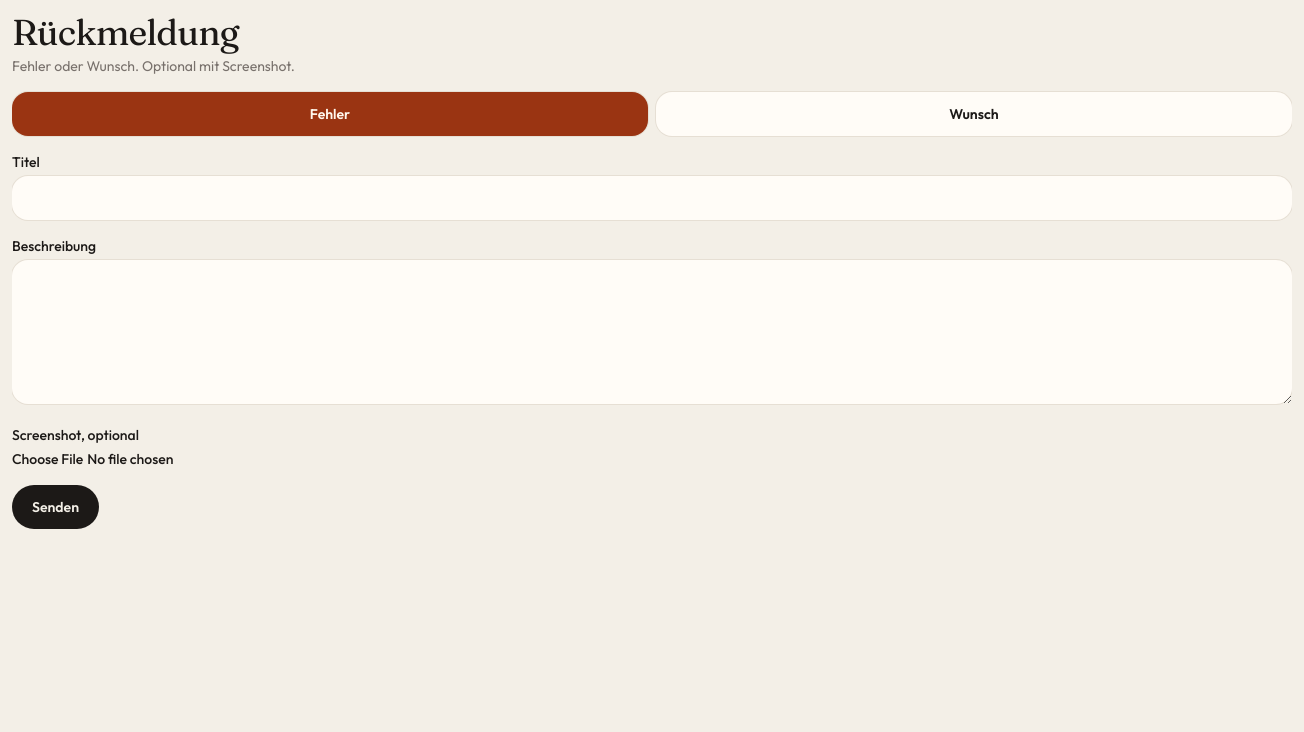
Scenario: FeedbackForm › sends a wish without a screenshot
Click the radio button "Wunsch".
click(974, 114)  # box [656,92,1292,136]
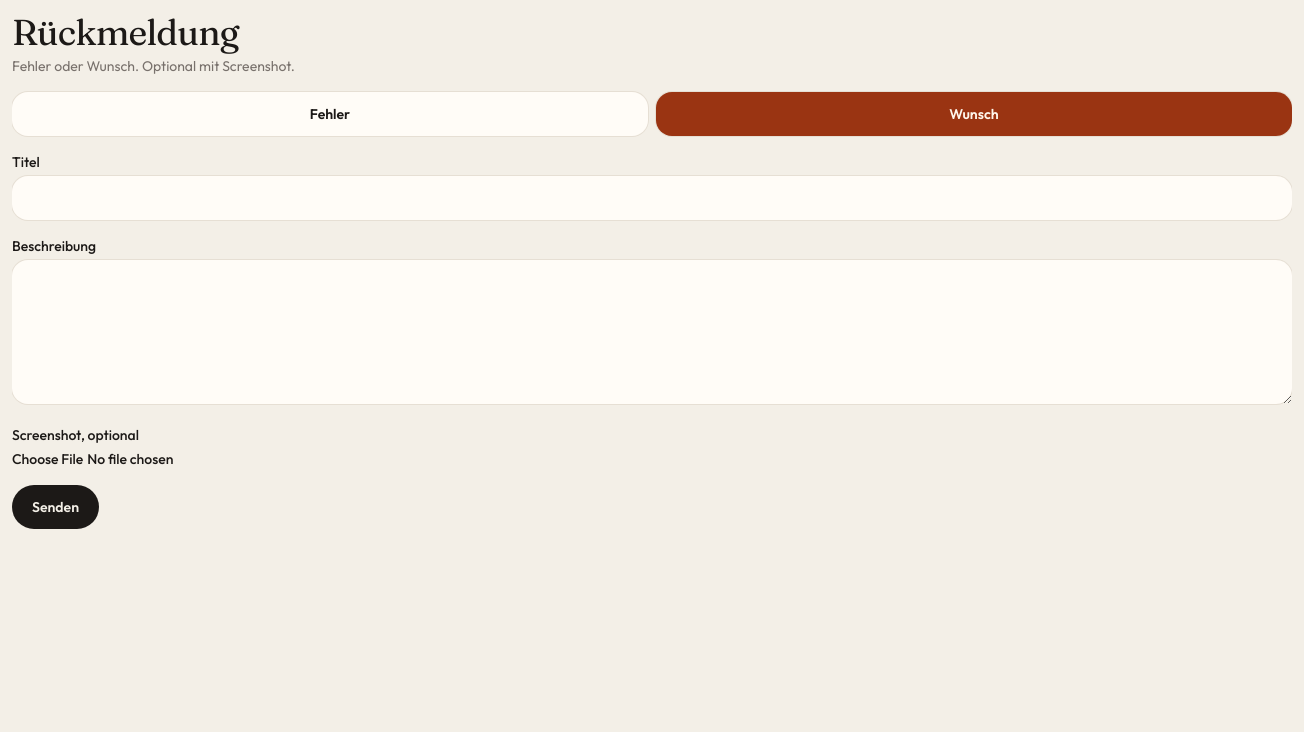
Type "Karte" into the field labelled "Titel".
click(652, 198); type("Karte")  # box [12,176,1292,220]
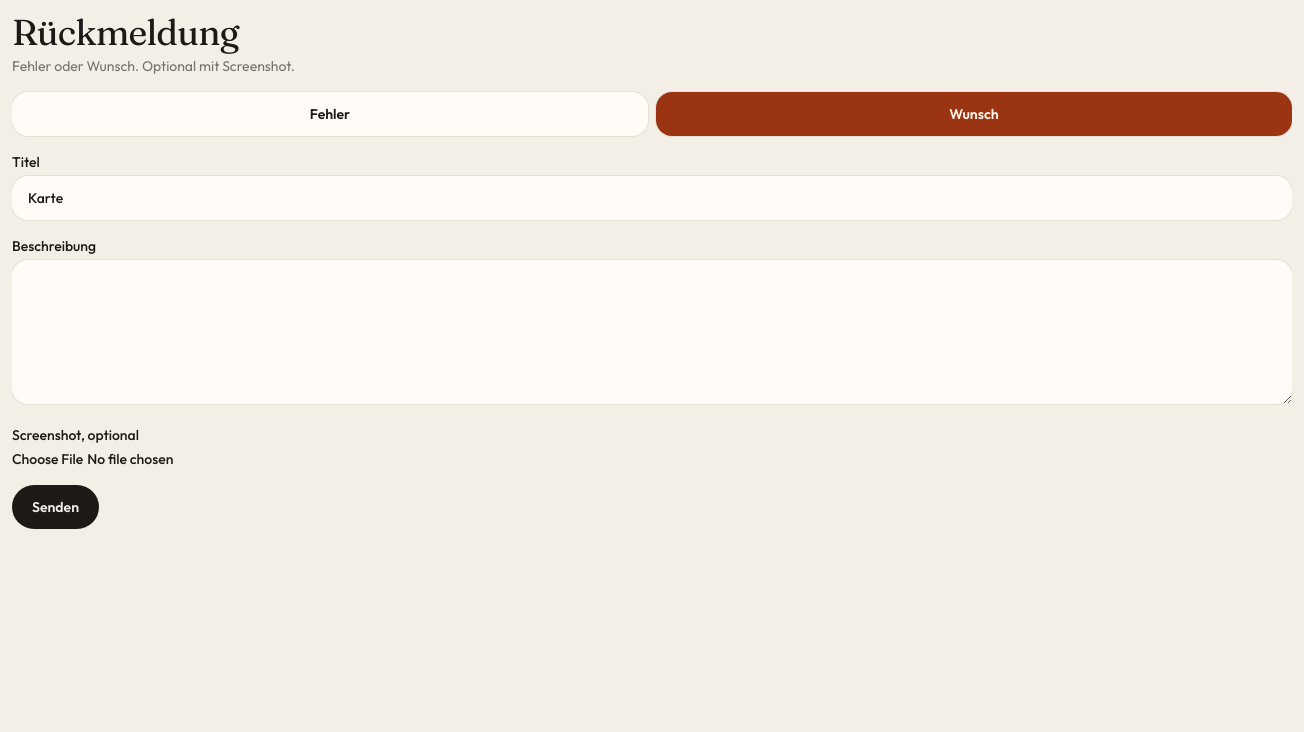
Type "Bitte eine Karte" into the text box labelled "Beschreibung".
click(652, 332); type("Bitte eine Karte")  # box [12,260,1292,404]
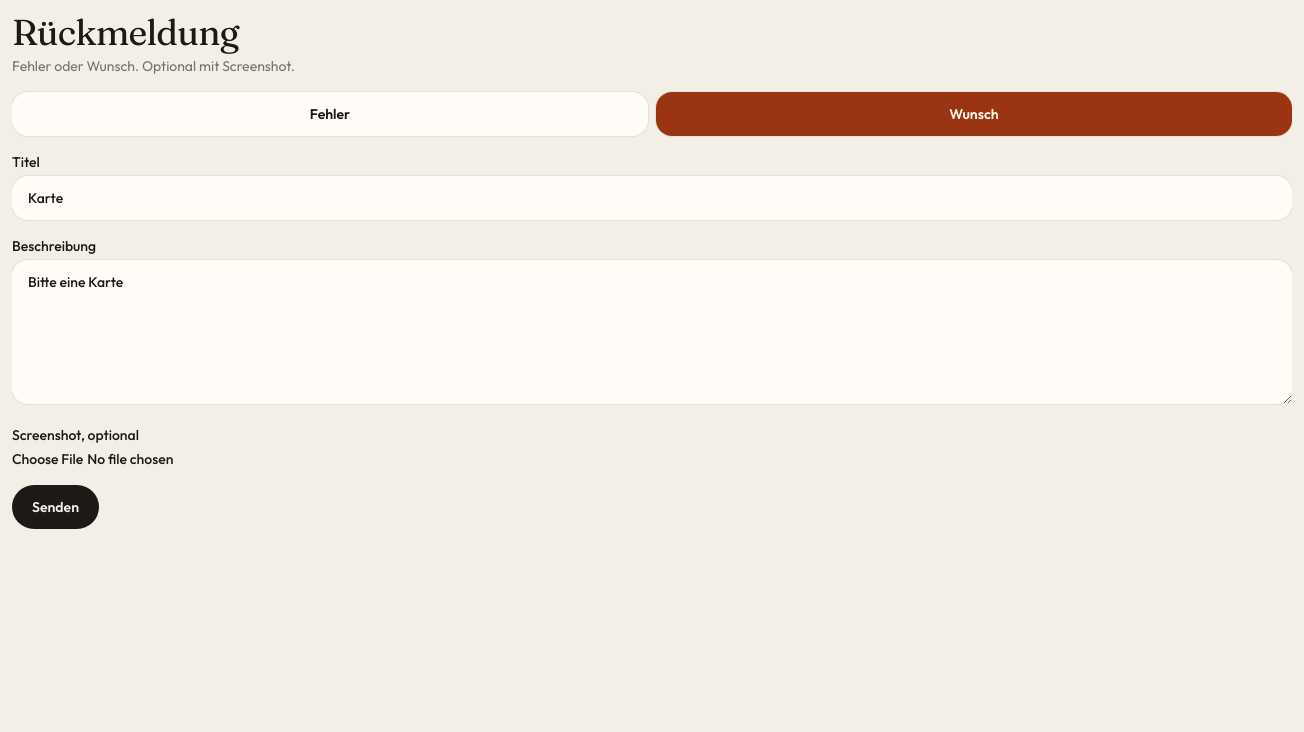
Click the button "Senden".
click(56, 507)  # box [12,485,99,529]
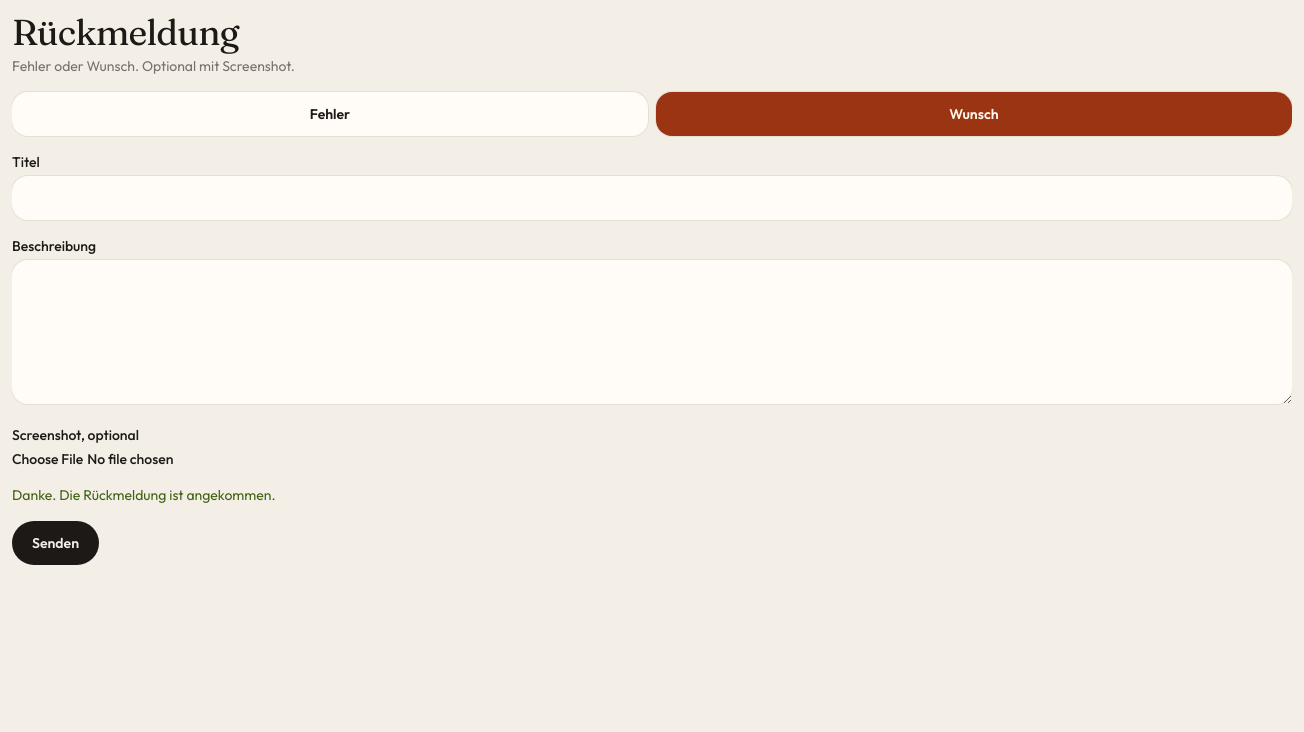
Expected: the text "Danke. Die Rückmeldung ist angekommen." is shown, [12,486,276,504]
